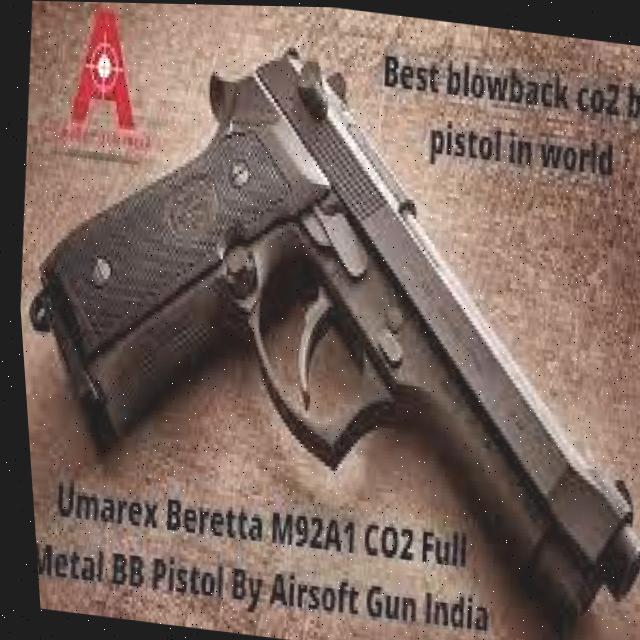gun: (27, 48, 640, 619)
